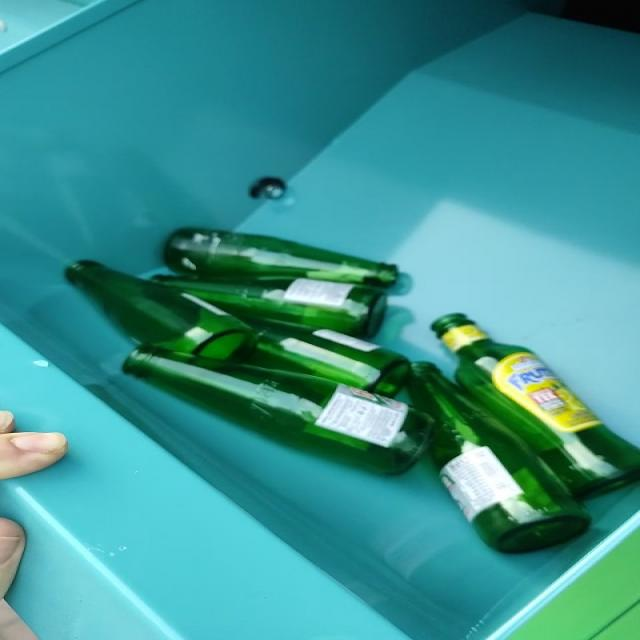glass: (67, 228, 640, 553)
